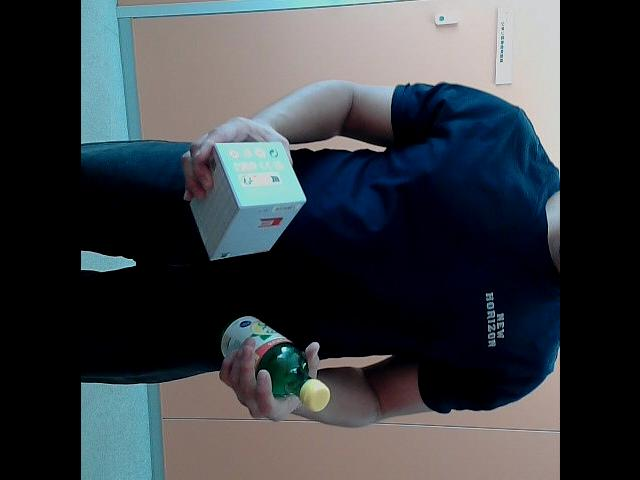Blind_box: (180, 133, 302, 275)
Lemon_sapporo: (216, 316, 332, 418)
